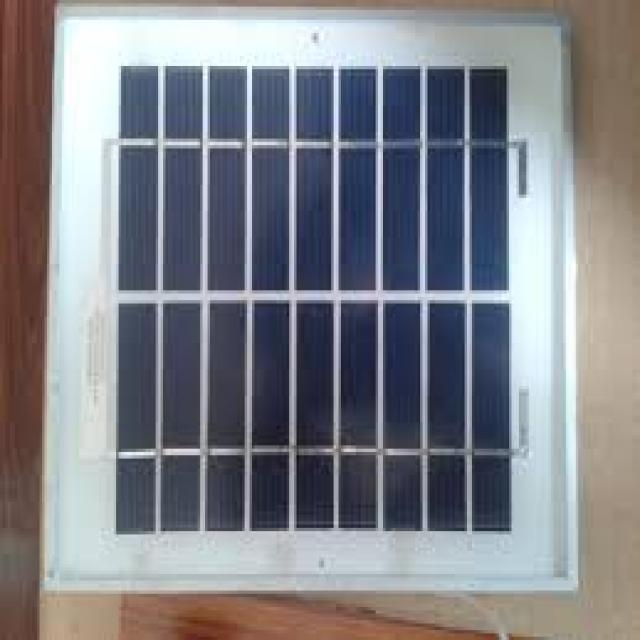no faulty: (126, 60, 515, 542)
